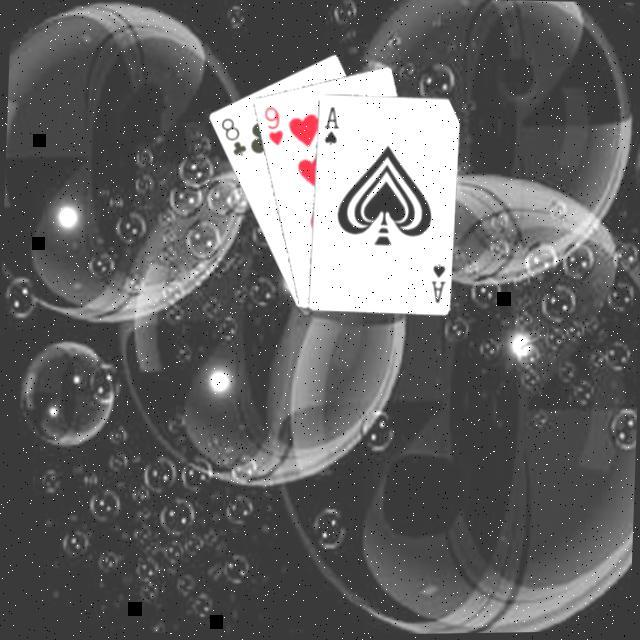8C: (215, 115, 249, 160)
9H: (257, 103, 285, 150)
AS: (425, 261, 448, 308), (318, 104, 341, 150)
